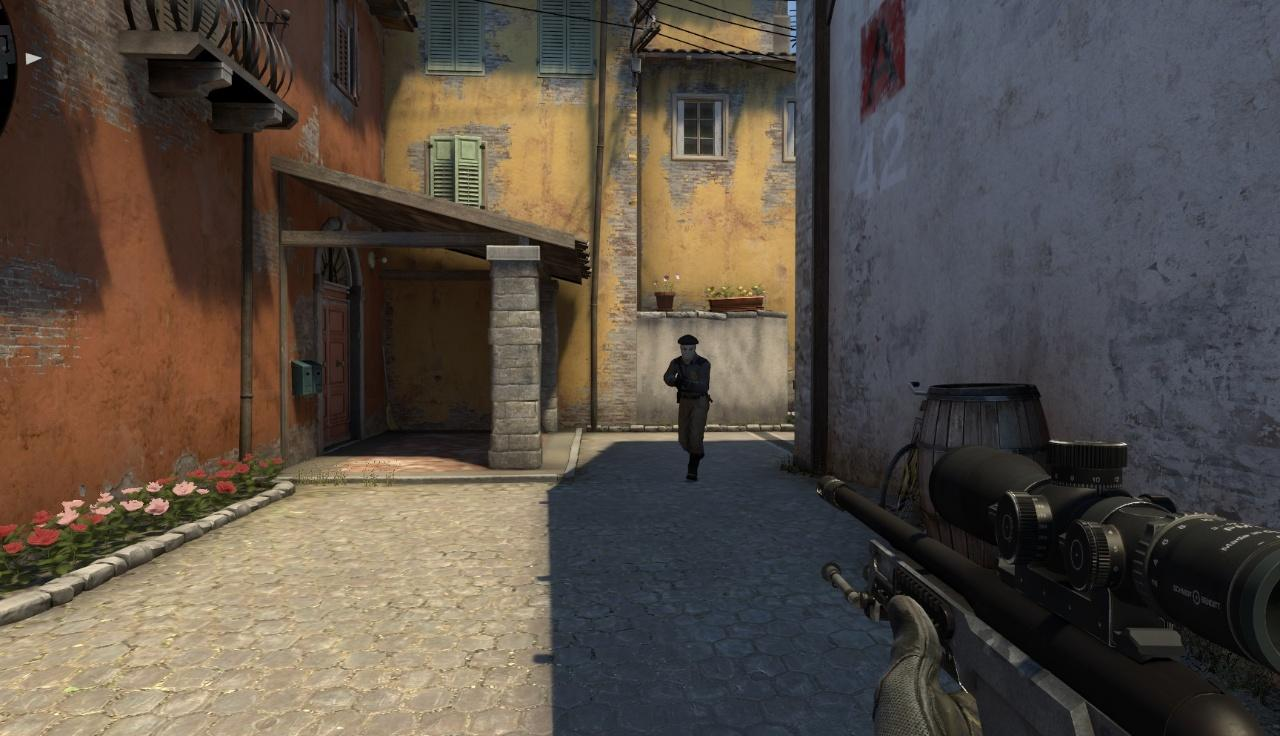sniper: (819, 437, 1280, 736)
tt: (662, 334, 713, 481)
tthead: (678, 335, 697, 361)
